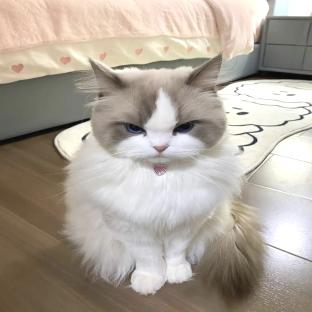Animal: (64, 54, 264, 298)
